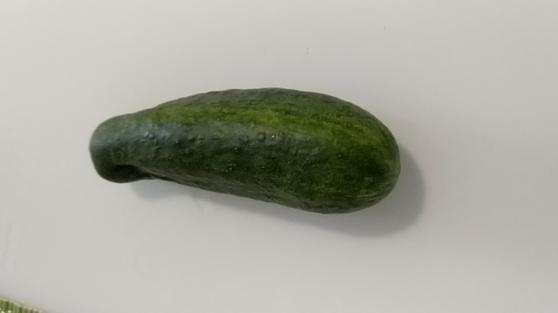cucumber: (88, 88, 400, 210)
